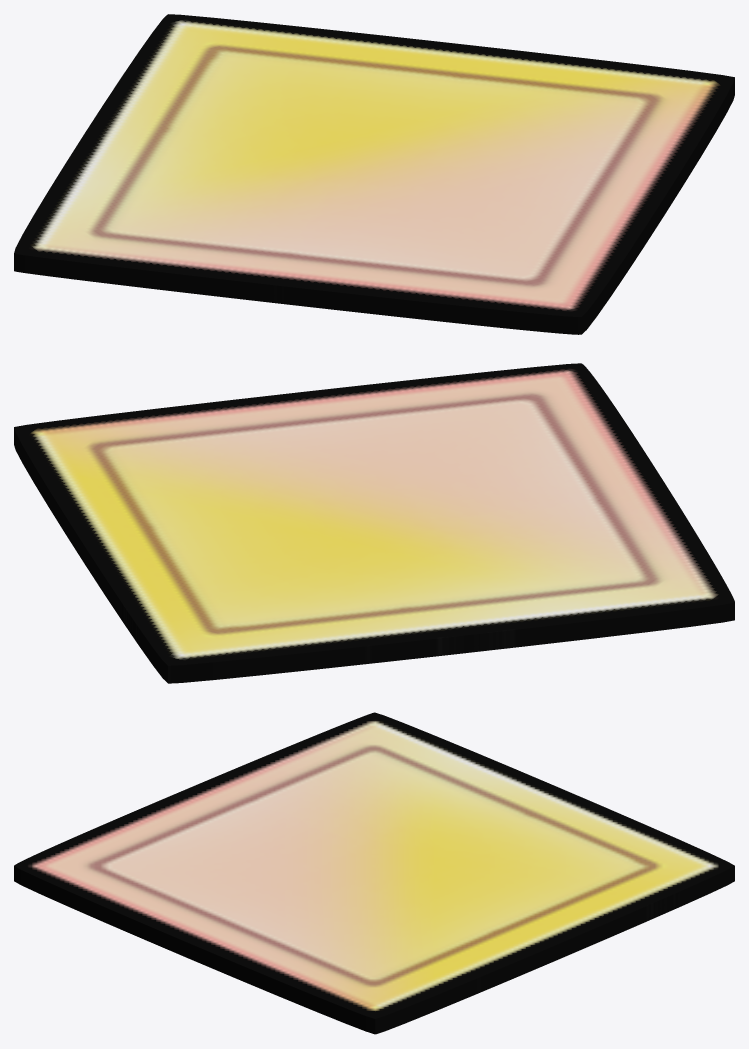
3 views of the same model, one above another, from view 1: azimuth 30°, elevation 25°; view 2: azimuth 150°, elevation 25°; view 3: azimuth 270°, elevation 25° (orthographic). The views are drawn at different scales.
Parts seen in each view (by area): view 1: path24; view 2: path24; view 3: path24.
Boxes of the visible parts, x1,y1,x2,y2 form: path24: (14, 14, 734, 334); path24: (14, 363, 734, 683); path24: (14, 712, 734, 1034).
Size of the model in its own units: 106 by 2.5 by 106.
Materials: 1 (1 with a texture image).
